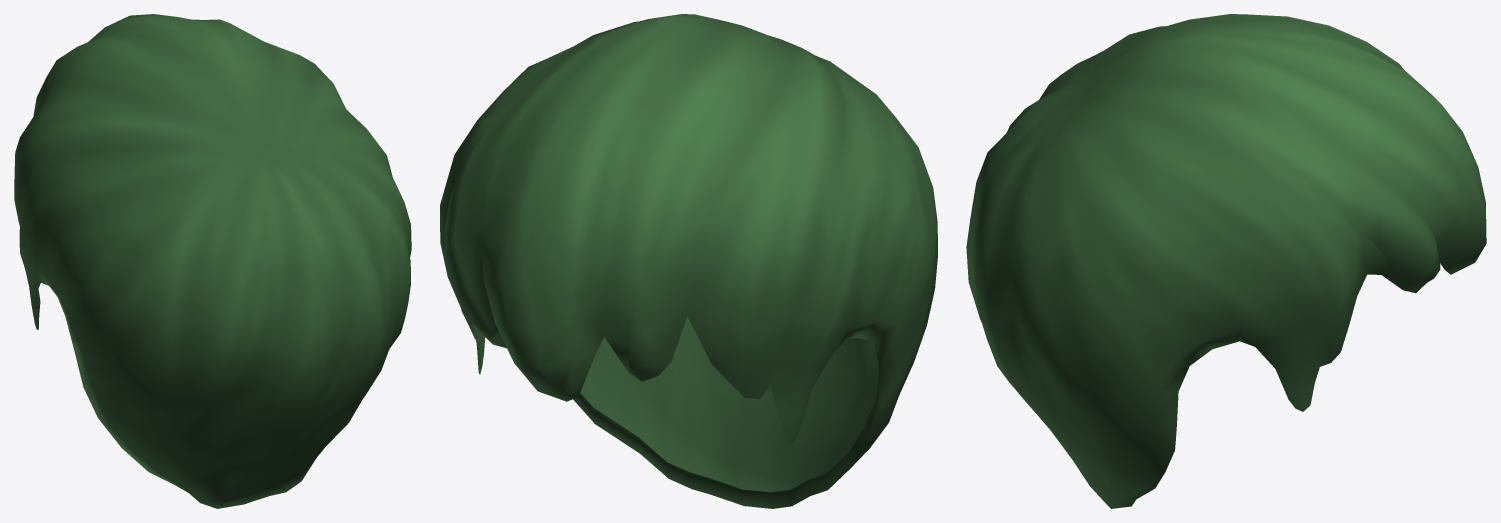
The model's file is Hair_Male_001_textured_green.glb.
The picture shows the model from 3 angles, left to right: view 1: azimuth 30°, elevation 25°; view 2: azimuth 150°, elevation 25°; view 3: azimuth 270°, elevation 25°; orthographic projection. The views are drawn at different scales.
Visible parts, largest first — view 1: Hair_Male_001; view 2: Hair_Male_001; view 3: Hair_Male_001.
Boxes of the visible parts, <box> form: Hair_Male_001: <box>14,14,411,508</box>; Hair_Male_001: <box>440,14,937,508</box>; Hair_Male_001: <box>966,14,1486,508</box>.
Bounding box in the file's own units: 0.189 × 0.2389 × 0.2448.
Materials: 1 (1 with a texture image).
